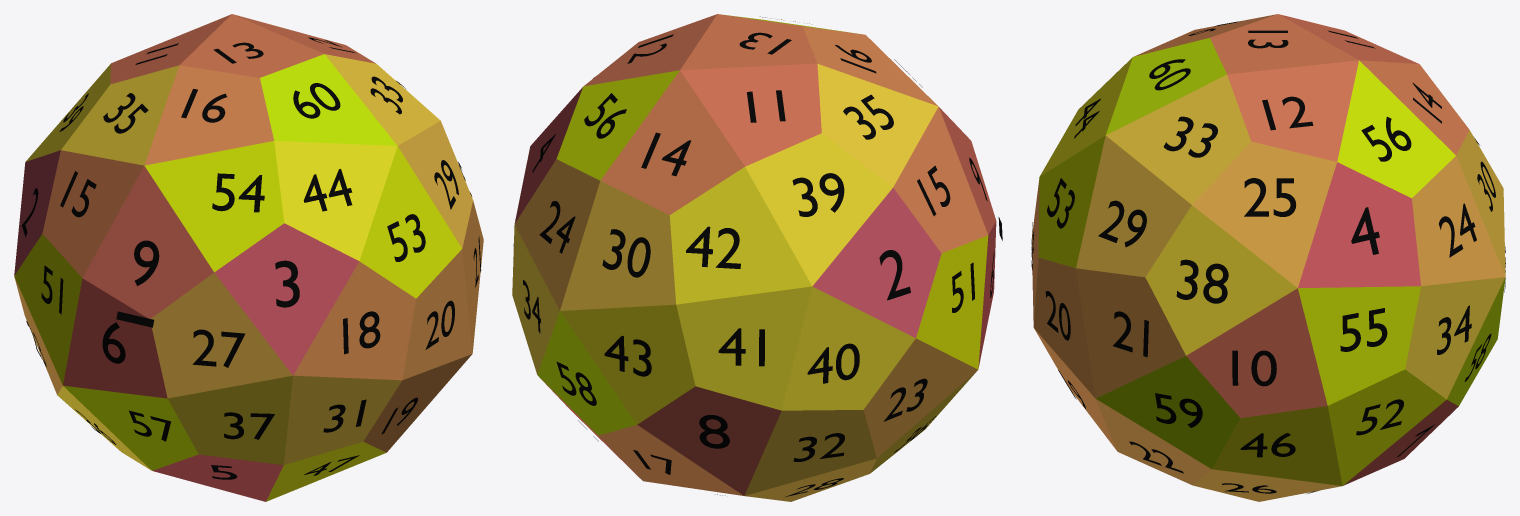
The picture shows the model from 3 angles, left to right: view 1: azimuth 30°, elevation 25°; view 2: azimuth 150°, elevation 25°; view 3: azimuth 270°, elevation 25°; orthographic projection. The views are drawn at different scales.
Visible parts, largest first — view 1: d60, d60_num; view 2: d60, d60_num; view 3: d60, d60_num.
Boxes of the visible parts, x1,y1,x2,y2 form: d60: [14, 14, 483, 501]; d60_num: [22, 37, 481, 479]; d60: [512, 14, 996, 501]; d60_num: [513, 16, 1002, 496]; d60: [1031, 14, 1505, 501]; d60_num: [1031, 21, 1505, 493].
Size of the model in its own units: 3.3 by 3.27 by 3.29.
